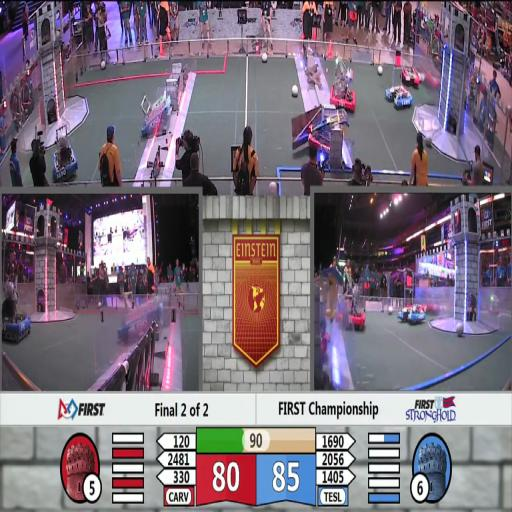robot: (115, 292, 166, 338), (307, 110, 349, 157), (50, 124, 79, 182), (136, 94, 176, 136), (330, 53, 358, 111), (1, 297, 36, 342), (342, 283, 370, 331), (385, 84, 412, 114), (398, 302, 427, 324), (401, 64, 421, 86)
